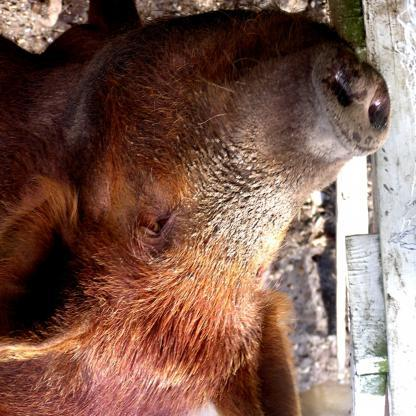boar: (0, 1, 392, 416)
